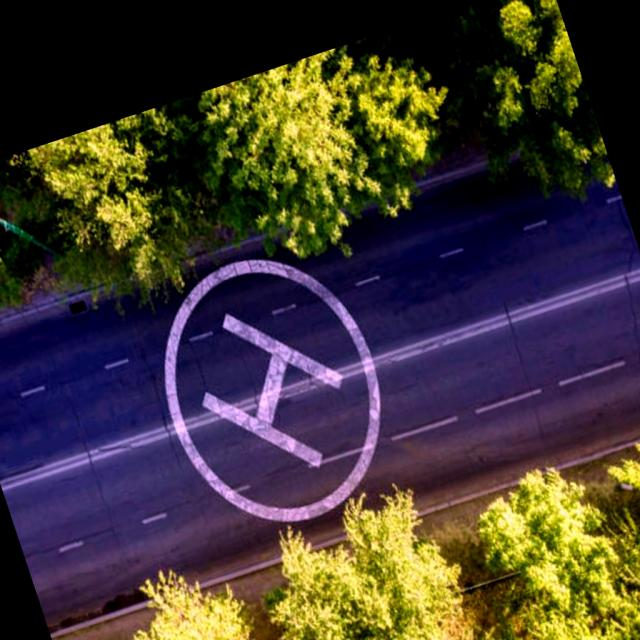helipad: (155, 251, 386, 528)
